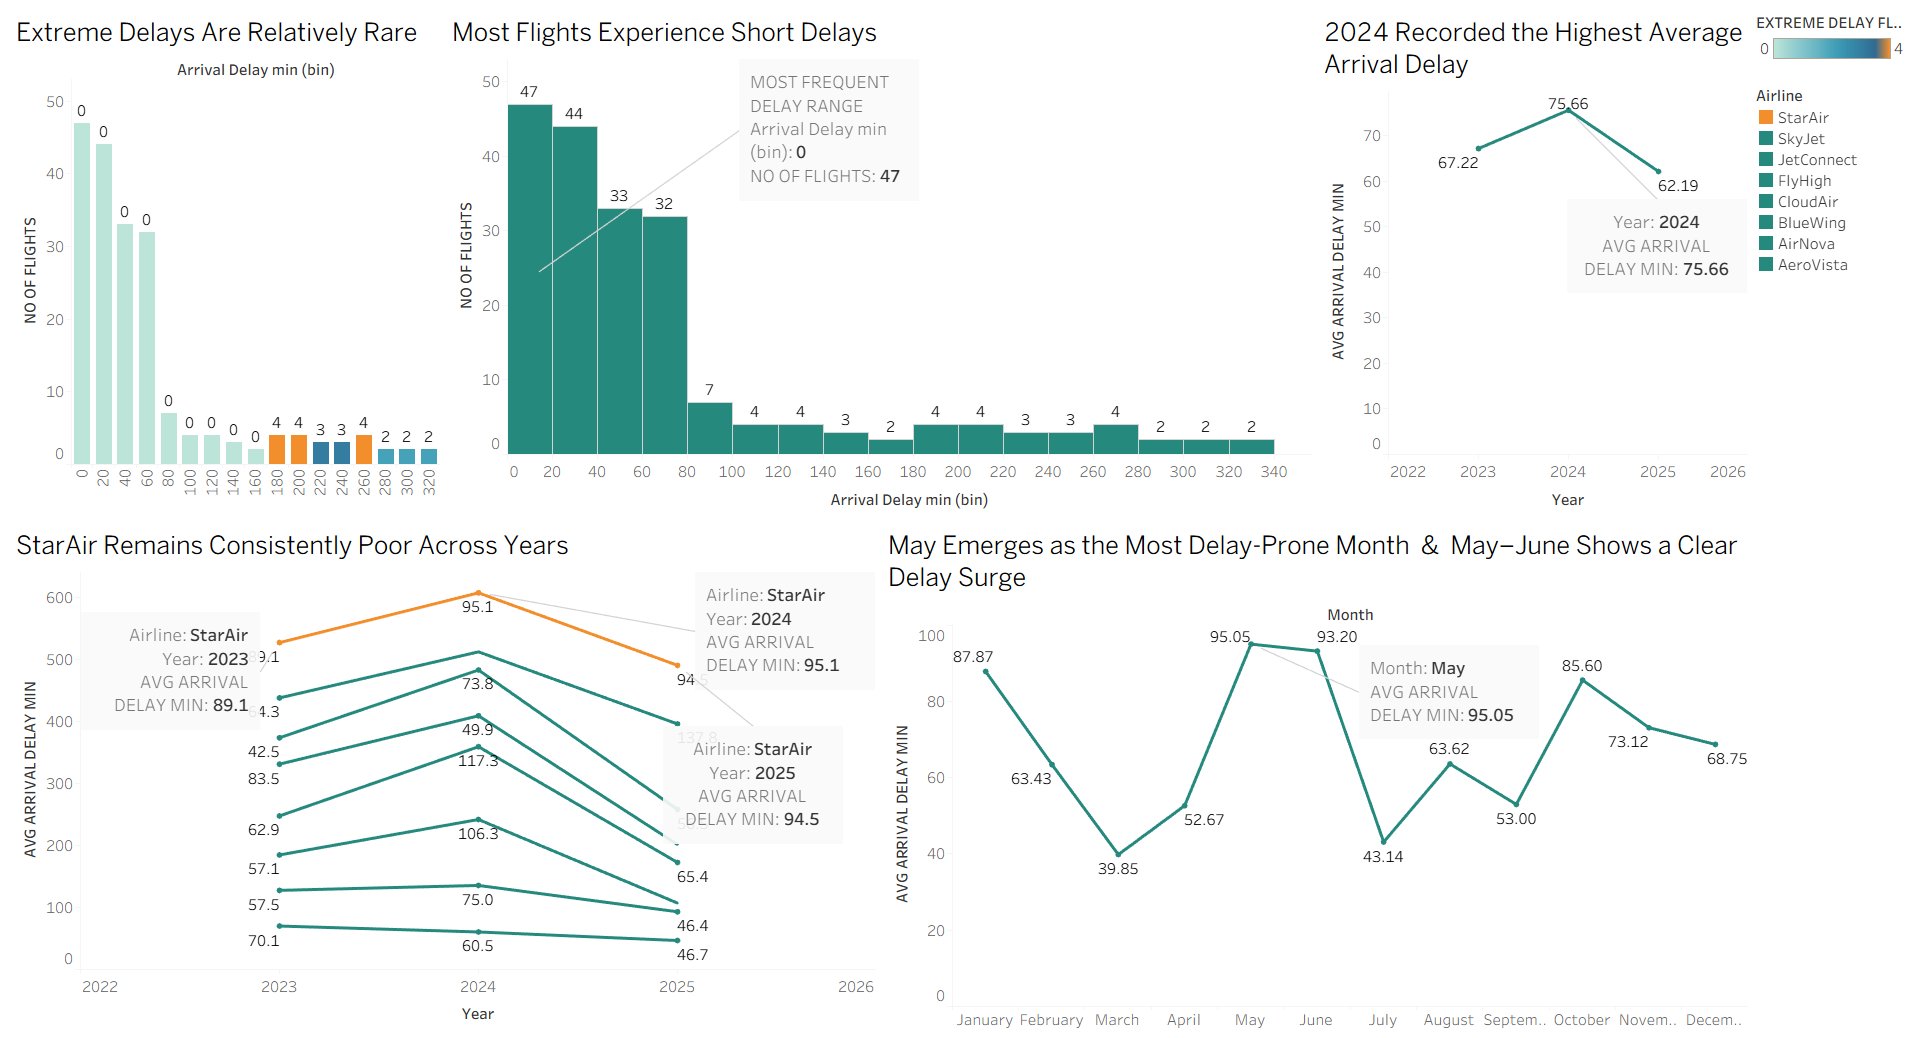

What the dashboard file says about the page in this screenshot:
{"tool":"tableau","page":{"name":"Dashboard 5","canvas":[1000,1000],"units":"permille","ordinal":4},"visuals":[{"type":"worksheet","title":"E.2. Extreme delays: common or relatively rare?","mark":"Automatic","rows":["Calculation_0772175260704768"],"cols":["Arrival Delay min (bin)"],"box":[4.8,9.4,223.4,490.5]},{"type":"worksheet","title":"E.1. Histogram of Arrival Delay","mark":"Automatic","rows":["Calculation_0772175260704768"],"cols":["Arrival Delay min (bin)"],"box":[228.2,9.4,446.9,490.5]},{"type":"worksheet","title":"F.1. Which year has the highest average arrival delay?","mark":"Line","rows":["Calculation_0772175299403781"],"cols":["Year"],"box":[675.1,9.4,223.5,490.5]},{"type":"legend","title":"E.2. Extreme delays: common or relatively rare?","param":"[federated.0cniu2b1ezr26e1fi3ztb1c9pnie].[sum:Calculation_0772175310815239:qk]","box":[898.6,9.4,96.6,85.8]},{"type":"legend","title":"F.4. Does the worst-performing airline remain consistently poor across the years?","param":"[federated.0cniu2b1ezr26e1fi3ztb1c9pnie].[none:Airline:nk]","box":[898.6,95.2,96.6,232.7]},{"type":"worksheet","title":"F.4. Does the worst-performing airline remain consistently poor across the years?","mark":"Line","rows":["Calculation_0772175299403781"],"cols":["Year"],"box":[4.8,499.9,446.8,490.7]},{"type":"worksheet","title":"F.2/f3. Which month has the highest average arrival delay?","mark":"Line","rows":["Calculation_0772175299403781"],"cols":["Month"],"box":[451.7,499.9,447,490.7]}]}

Visuals, with their boxes on the dashboard's canvas, which has no fixed pixel size, in thousandths of its width and height (x1, y1, x2, y2). These are canvas units, not pixel positions in the 1917x1038 screenshot, which may show the page scaled, cropped or inside an application window:
"E.2. Extreme delays: common or relatively rare?" worksheet: [5, 9, 228, 500]
"E.1. Histogram of Arrival Delay" worksheet: [228, 9, 675, 500]
"F.1. Which year has the highest average arrival delay?" worksheet (Line marks): [675, 9, 899, 500]
"E.2. Extreme delays: common or relatively rare?" legend: [899, 9, 995, 95]
"F.4. Does the worst-performing airline remain consistently poor across the years?" legend: [899, 95, 995, 328]
"F.4. Does the worst-performing airline remain consistently poor across the years?" worksheet (Line marks): [5, 500, 452, 991]
"F.2/f3. Which month has the highest average arrival delay?" worksheet (Line marks): [452, 500, 899, 991]
